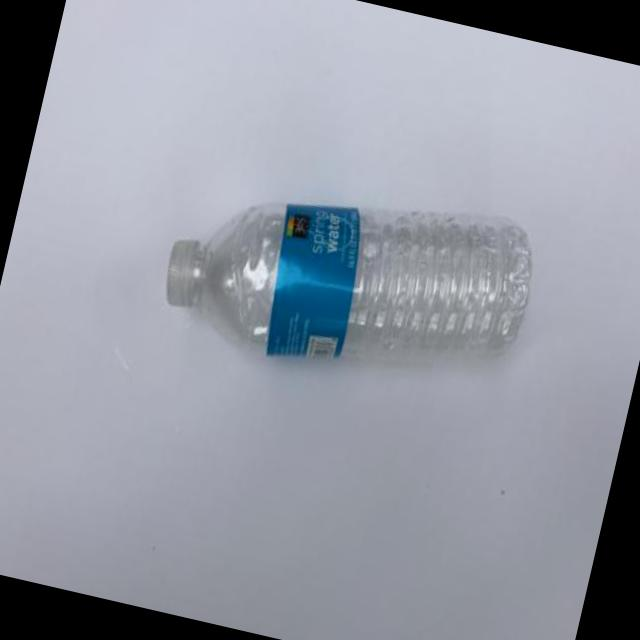Recycle: (150, 148, 544, 414)
